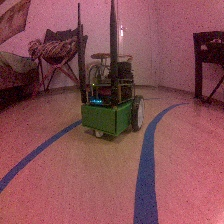rob: (79, 60, 145, 138)
